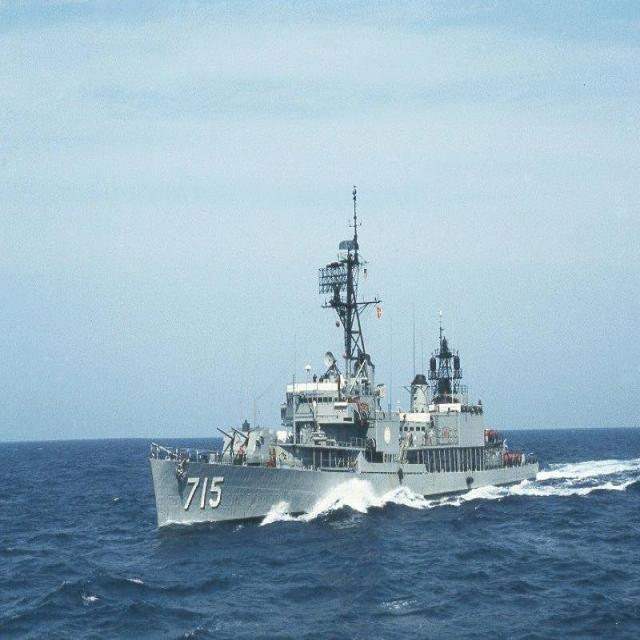navalvessels: (146, 188, 538, 522)
